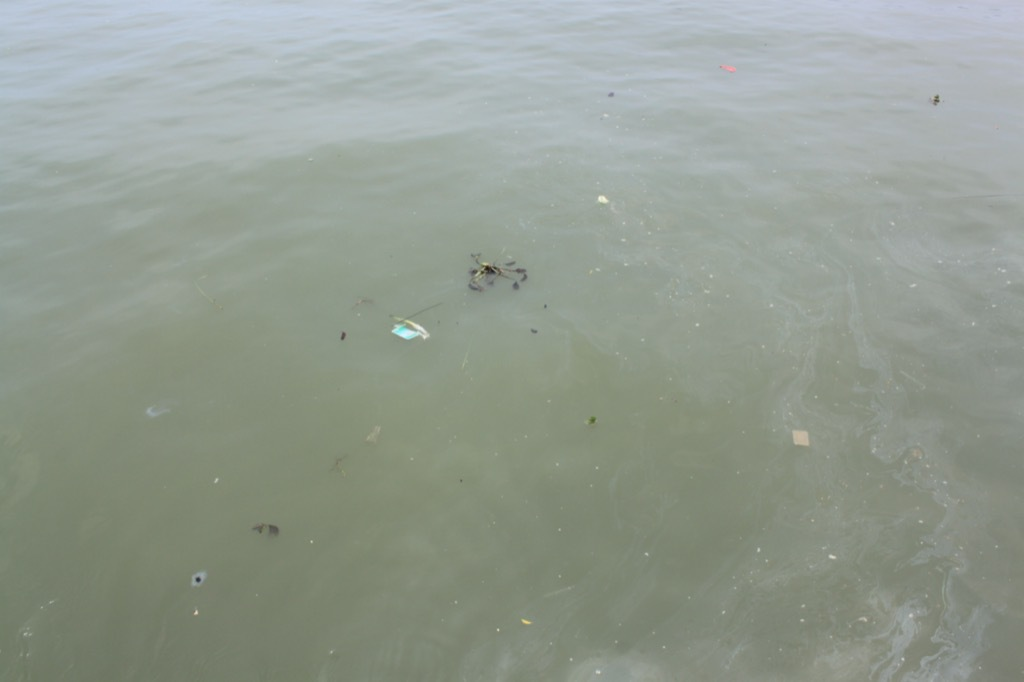organic: (450, 239, 537, 301), (321, 444, 362, 484), (342, 285, 381, 325), (248, 514, 286, 544), (578, 411, 607, 434), (922, 87, 949, 111), (515, 612, 537, 631), (599, 87, 622, 104), (522, 320, 541, 339), (334, 328, 352, 345), (455, 472, 470, 485), (540, 300, 550, 314)
plastic: (382, 317, 430, 351), (138, 397, 185, 427), (712, 54, 746, 85), (186, 563, 214, 596), (790, 425, 815, 453)
